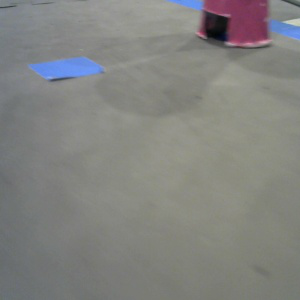right: (194, 1, 273, 47)
